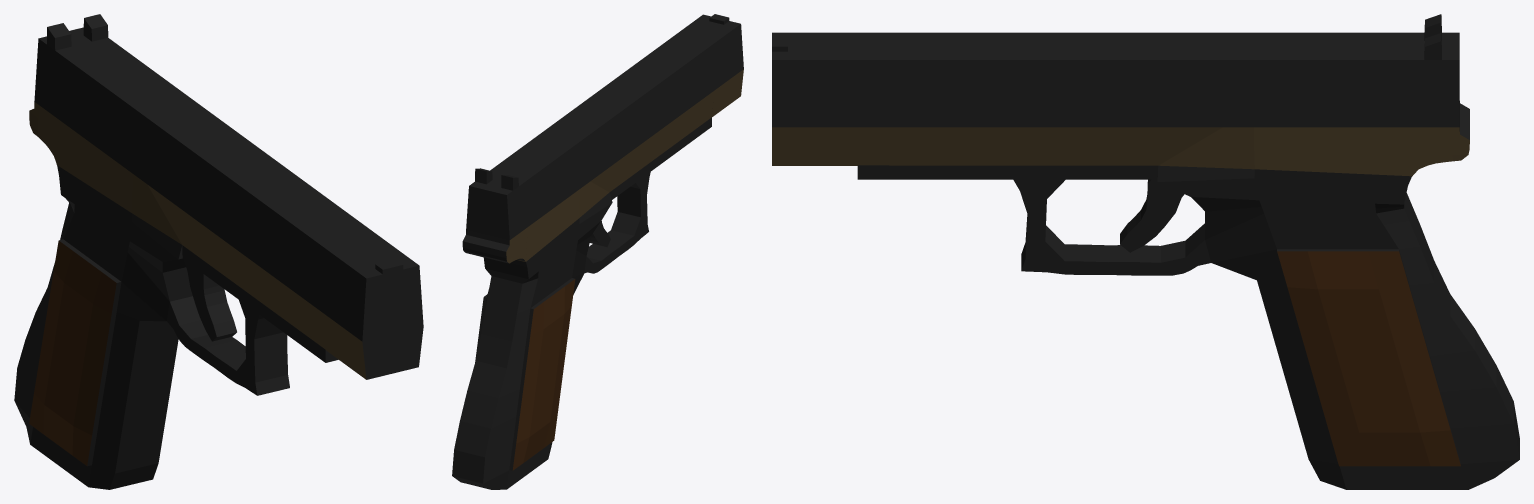
The model's file is pistol.glb.
3 views of the same model, side by side, from view 1: azimuth 30°, elevation 25°; view 2: azimuth 150°, elevation 25°; view 3: azimuth 270°, elevation 25° (orthographic). The views are drawn at different scales.
Parts seen in each view (by area): view 1: Cube; view 2: Cube; view 3: Cube.
Boxes of the visible parts, <box> form: Cube: <box>14,14,423,489</box>; Cube: <box>452,14,743,489</box>; Cube: <box>772,14,1519,489</box>.
Bounding box in the file's own units: 0.1806 × 0.9343 × 1.42.
